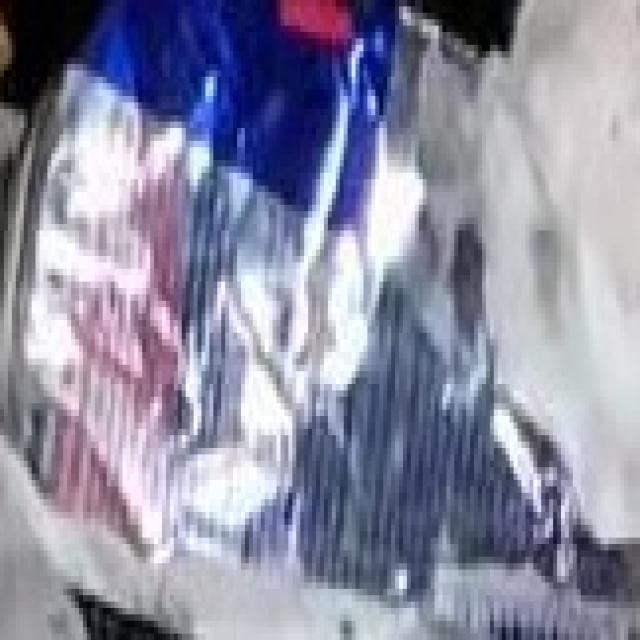litter: (4, 5, 608, 619)
